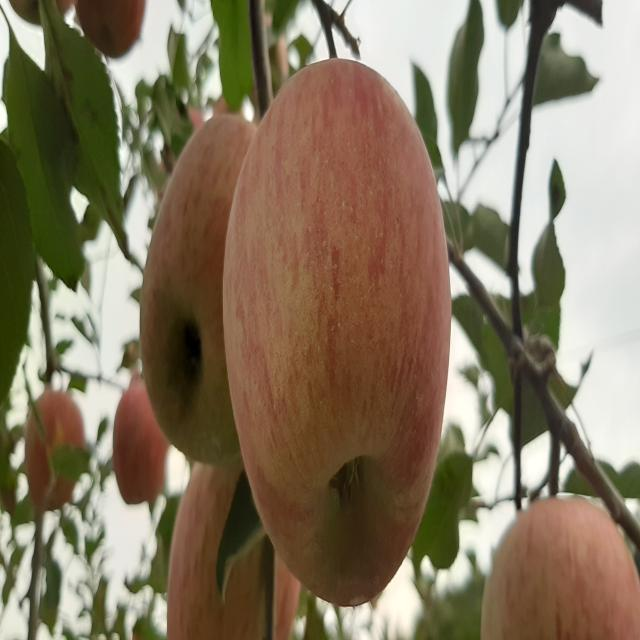fresh: (218, 48, 457, 618)
